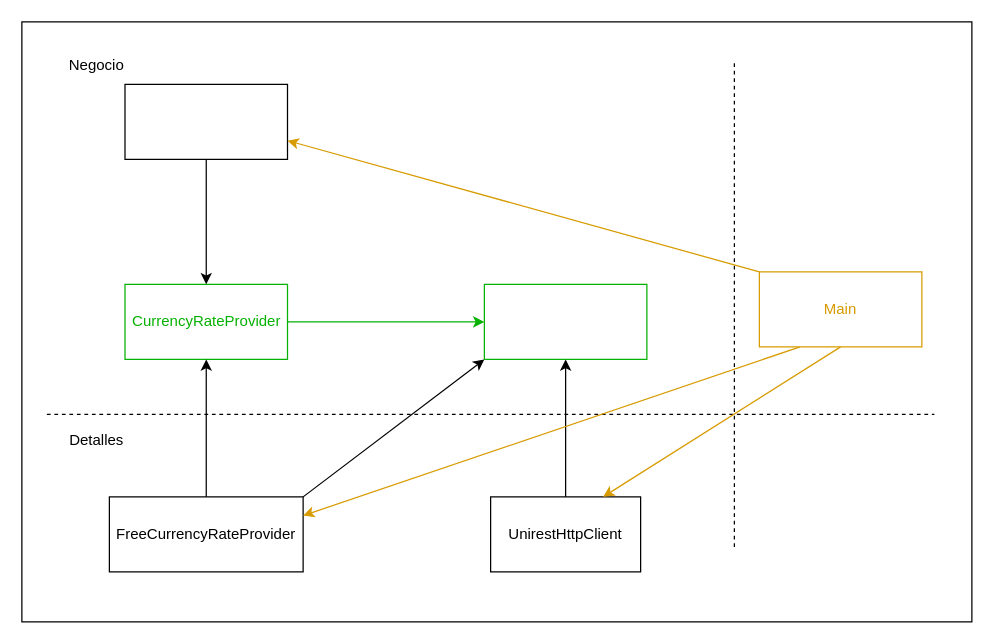
The diagram is 994 pixels wide and 644 high, and some of its shapes have lost their labels. Here are the shapes that lost their labels. From the top down, the centre of each, then its label:
At point 206,121: "CurrencyConver ter".
At point 565,321: "HttpClient (+ HttpApiResponse)".
